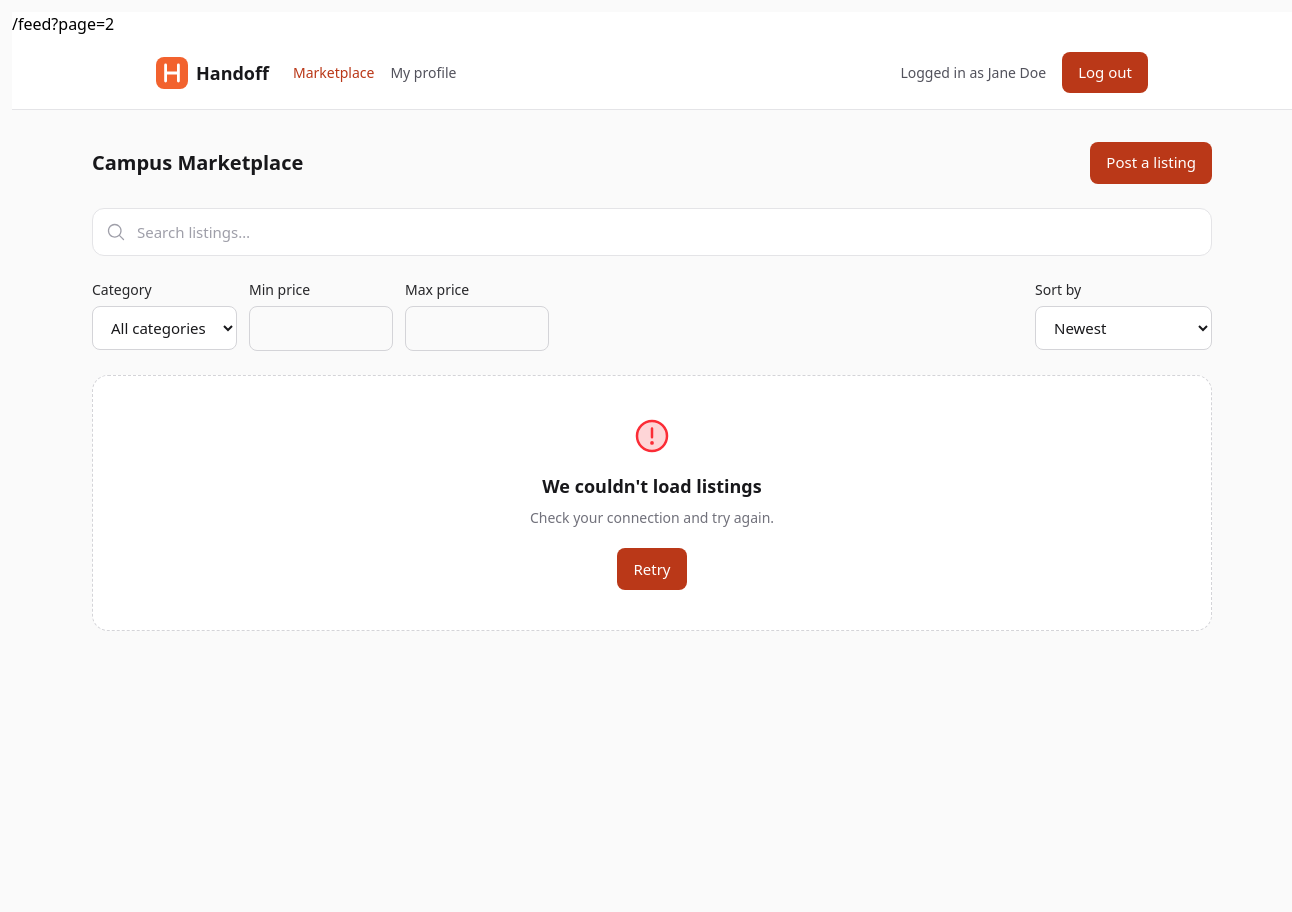
it: FeedPage › shows an error with Retry that reloads
Expected: the message shows "We couldn't load listings", [542,474,762,498]
Click the button "Retry". click: (652, 569)
box: [618,548,687,590]
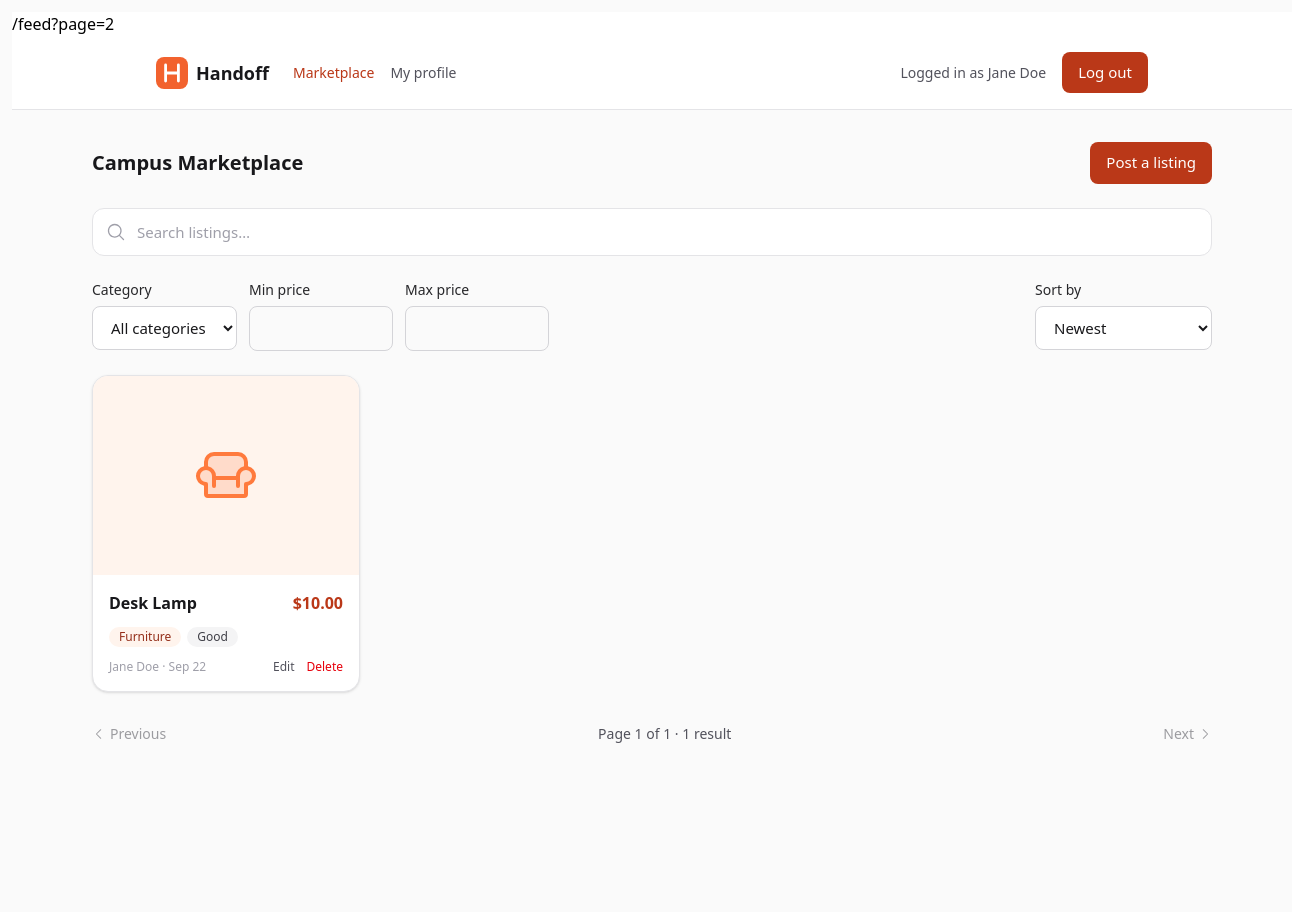
Expected: the text with test id "location" reads "/feed?page=2", [12,13,114,35]
Expected: the link "Desk Lamp" is shown, [109,592,197,614]
